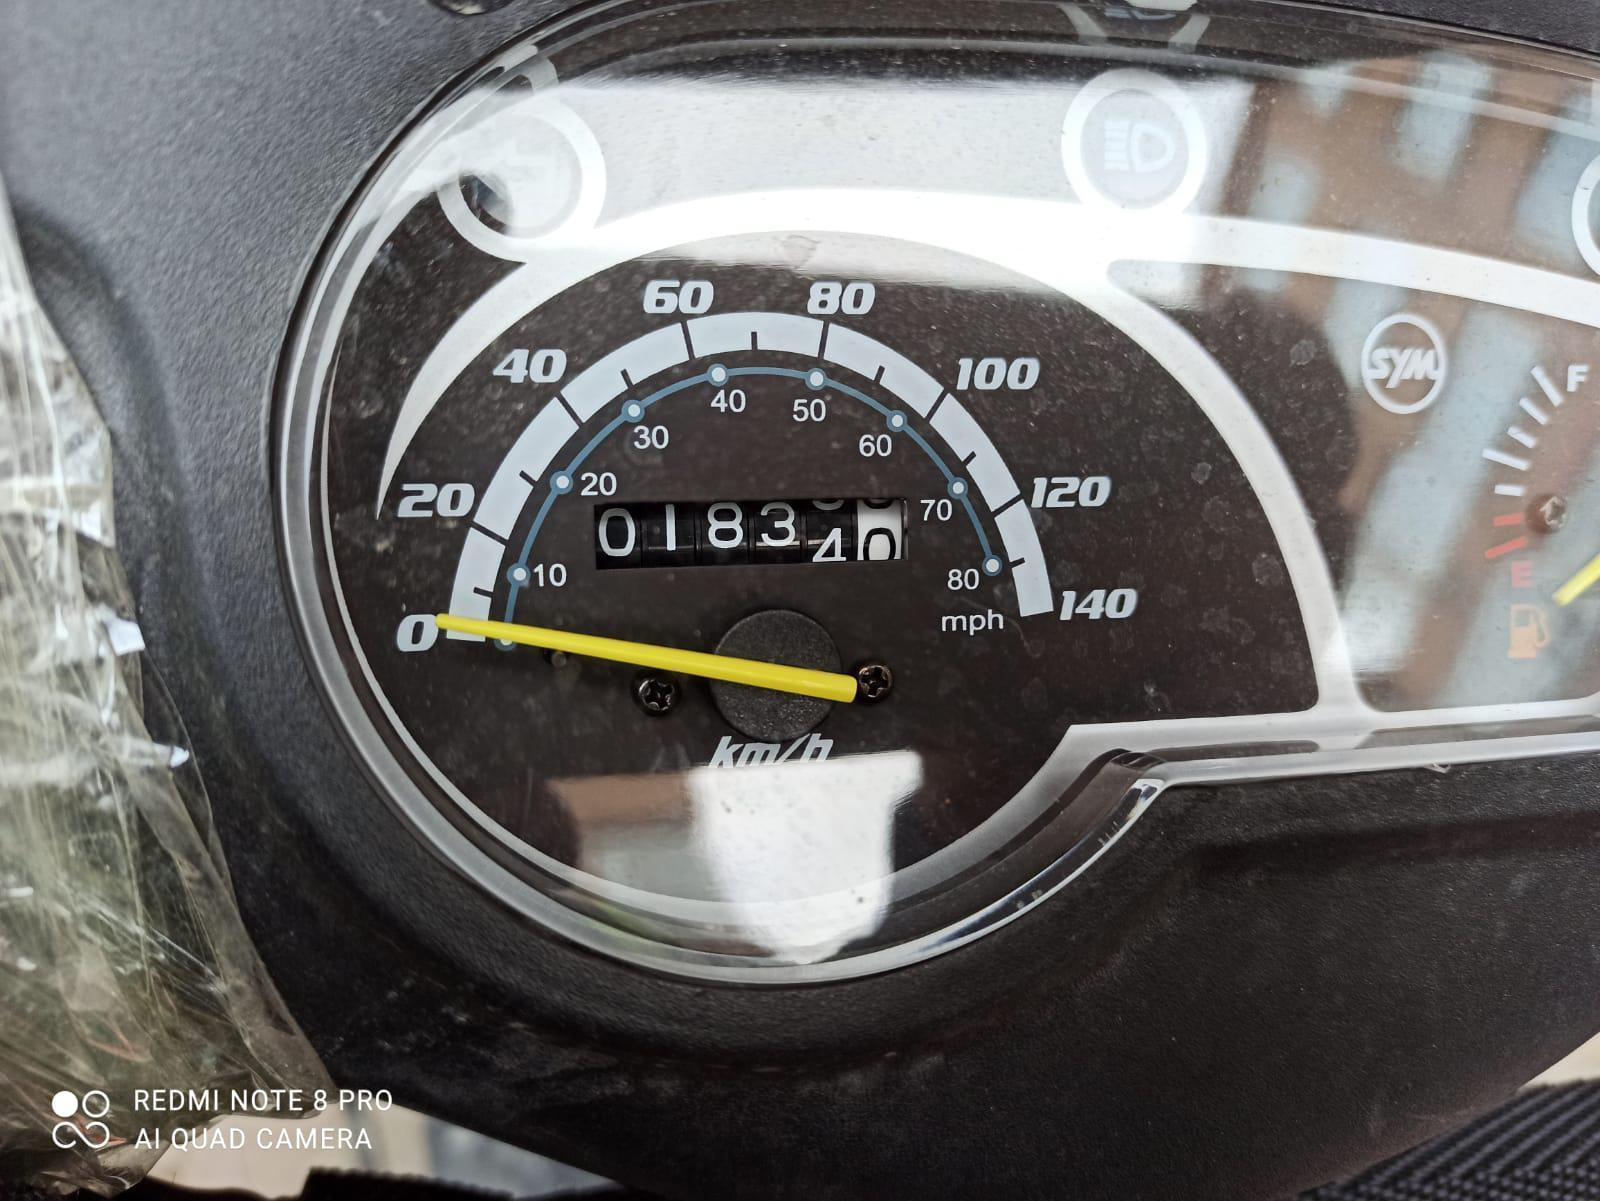0: (596, 505, 638, 559), (859, 518, 902, 564)
1: (659, 501, 681, 553)
3: (758, 502, 799, 550)
4: (808, 521, 849, 565)
8: (704, 500, 746, 550)
odometer: (591, 496, 911, 566)
